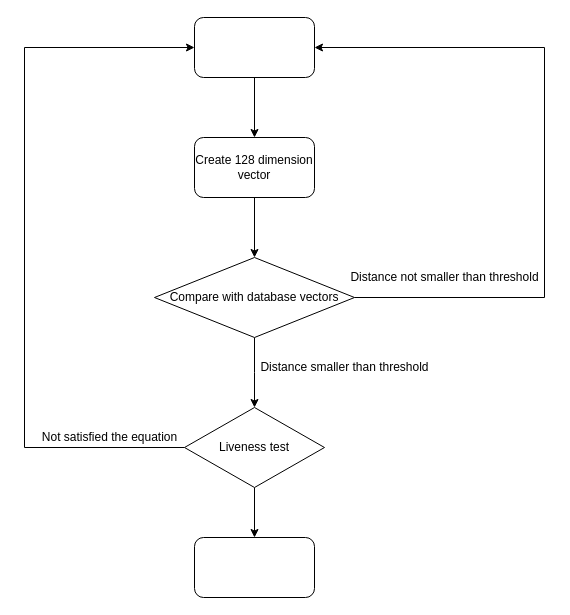
Some shapes in this 570 by 615 pixel diagram are drawn without their labels. The box of each missing label's shape, as (x1, y1, x2, y2) in pixels:
Capture from camera: (194, 16, 314, 78)
Recognition complete: (194, 536, 314, 598)
